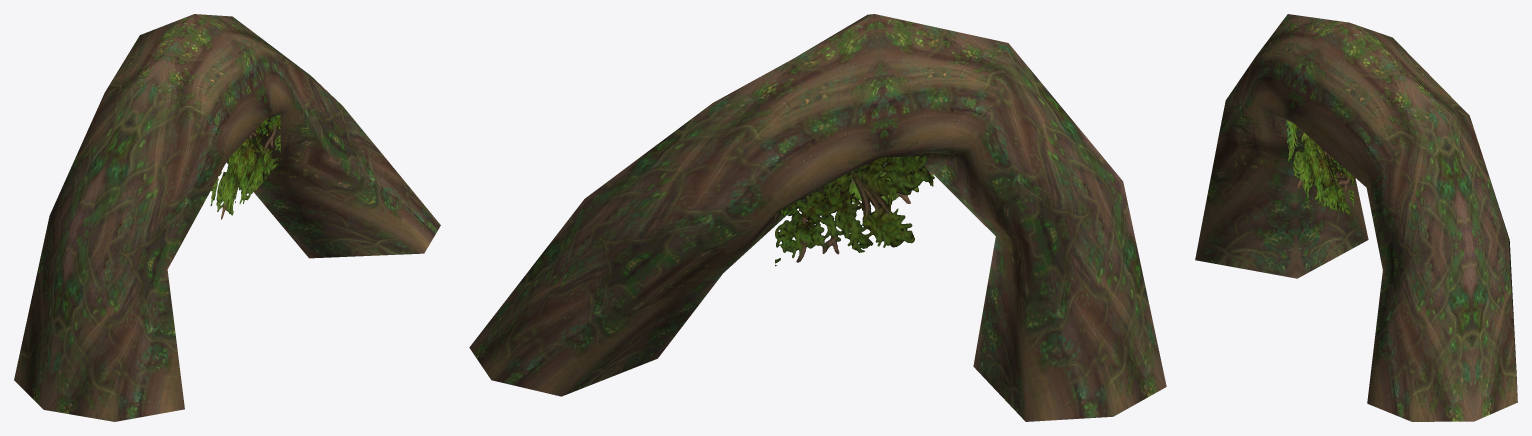
File: sholazar_root05.obj
The picture shows the model from 3 angles, left to right: view 1: azimuth 30°, elevation 25°; view 2: azimuth 150°, elevation 25°; view 3: azimuth 270°, elevation 25°; orthographic projection. The views are drawn at different scales.
Parts seen in each view (by area): view 1: sholazar_root05; view 2: sholazar_root05; view 3: sholazar_root05.
Boxes of the visible parts, x1=… form: sholazar_root05: x1=14, y1=14, x2=440, y2=421; sholazar_root05: x1=469, y1=14, x2=1166, y2=421; sholazar_root05: x1=1195, y1=14, x2=1517, y2=421.
Bounding box in the file's own units: 16.3 × 10.05 × 10.46.
Materials: 1 (1 with a texture image).
